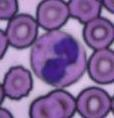N: (30, 31, 86, 87)
